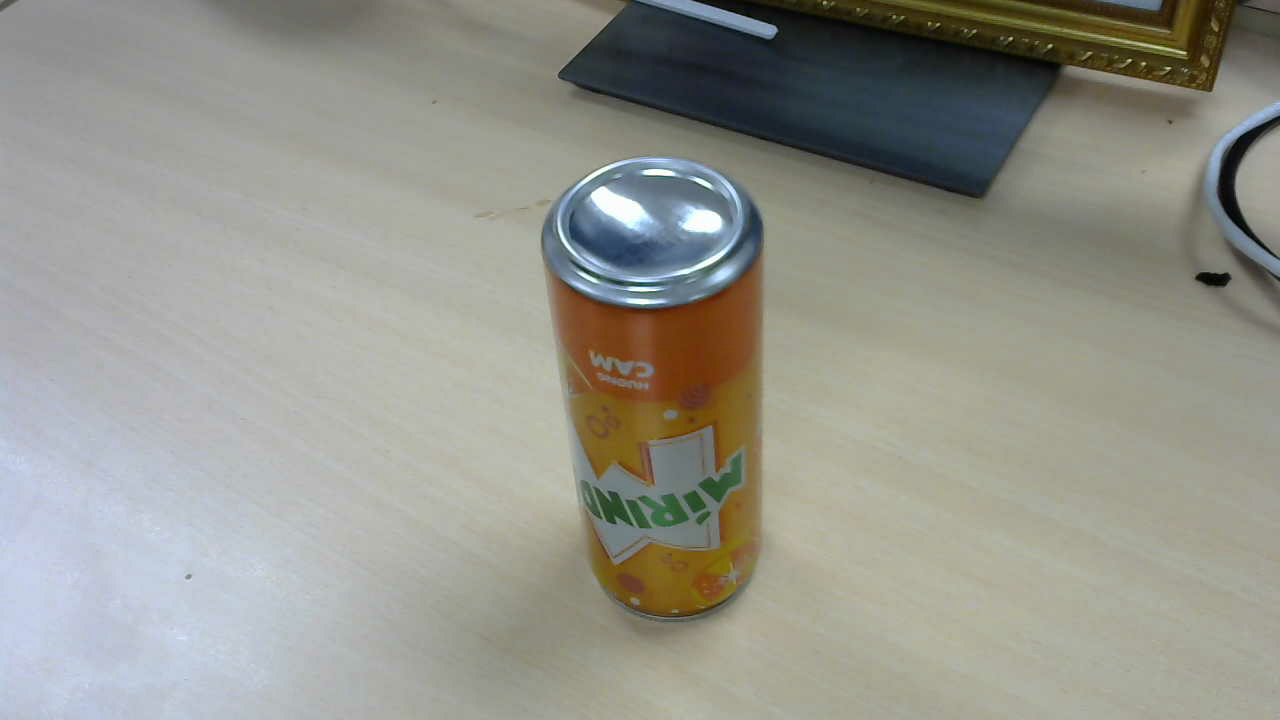Mirinda: (546, 161, 776, 625)
